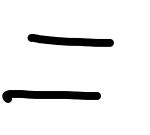eqv: (3, 33, 115, 103)
